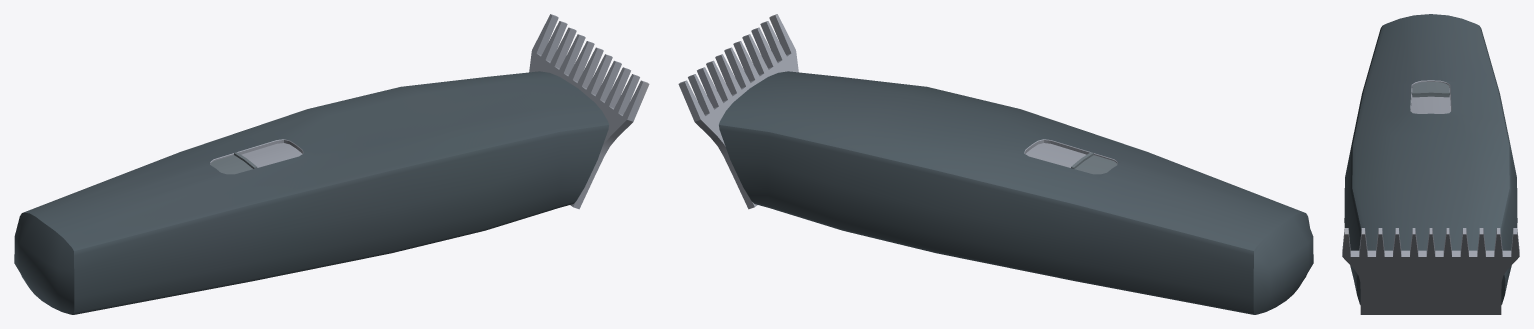
The model's file is Trimmer.fbx.
3 renders of one model, left to right at view 1: azimuth 30°, elevation 25°; view 2: azimuth 150°, elevation 25°; view 3: azimuth 270°, elevation 25°, orthographic. The views are drawn at different scales.
Visible parts, largest first — view 1: Body, Front, Swithch; view 2: Body, Front, Swithch; view 3: Body, Front, Swithch.
Boxes of the visible parts, x1,y1,x2,y2 form: Body: (14, 71, 608, 314); Front: (529, 14, 649, 209); Swithch: (210, 152, 257, 174); Body: (719, 71, 1313, 314); Front: (678, 14, 798, 209); Swithch: (1071, 152, 1117, 174); Body: (1344, 14, 1517, 304); Front: (1342, 228, 1519, 314); Swithch: (1412, 82, 1449, 97).
Size of the model in its own units: 68.13 by 13.71 by 19.66.
1 material, 1 textured.
